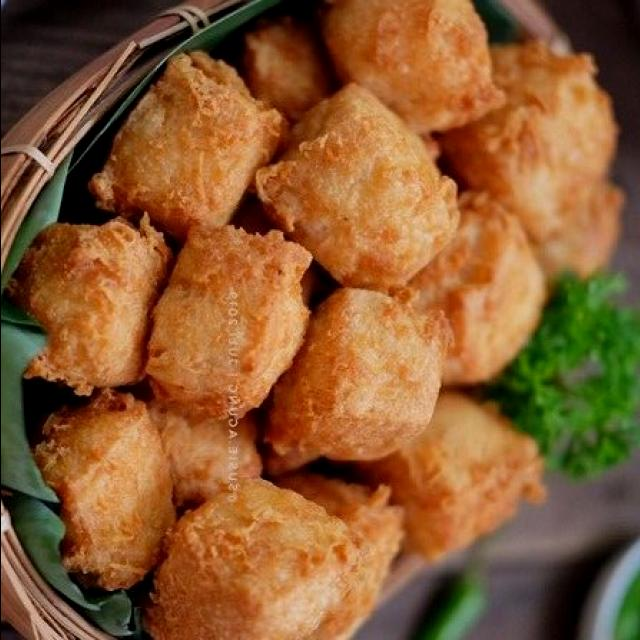tahu goreng: (129, 470, 409, 640), (246, 82, 460, 295), (262, 288, 454, 481)
